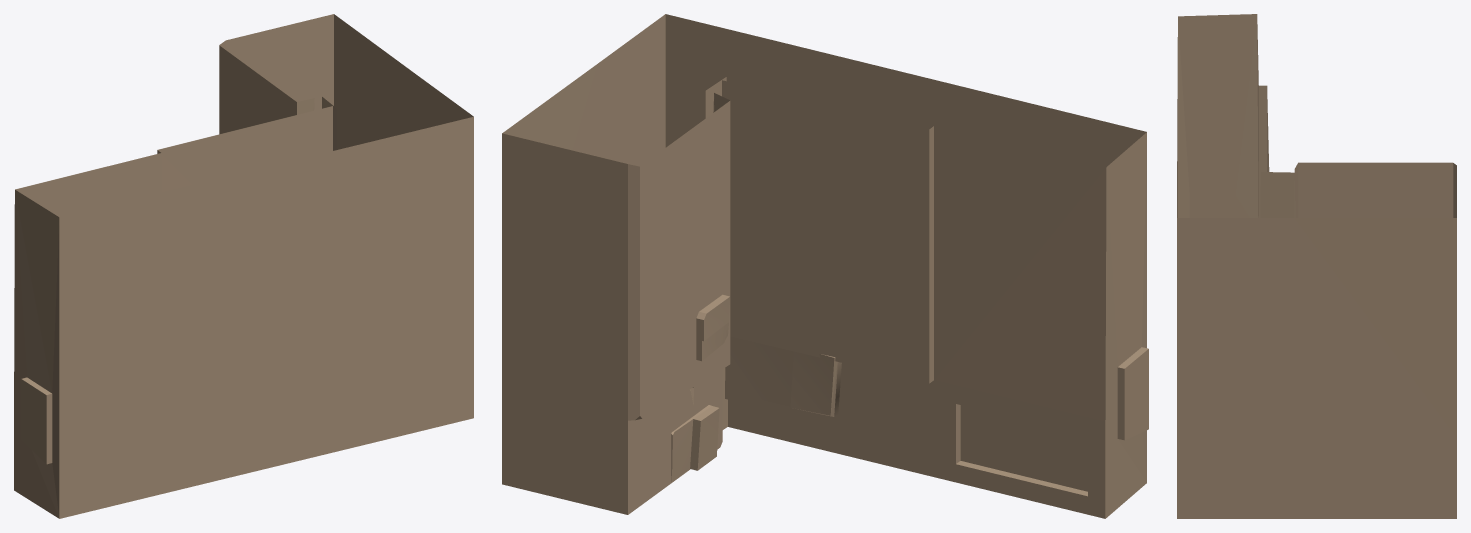
The model's file is 1map wall.FBX.
The picture shows the model from 3 angles, left to right: view 1: azimuth 30°, elevation 25°; view 2: azimuth 150°, elevation 25°; view 3: azimuth 270°, elevation 25°; orthographic projection. The views are drawn at different scales.
Parts seen in each view (by area): view 1: wall; view 2: wall; view 3: wall.
Part boxes in pixels (box(x1,y1,x2,y2)): wall: box(14, 14, 473, 518); wall: box(502, 14, 1148, 518); wall: box(1177, 14, 1456, 518).
Size of the model in its own units: 42.59 by 28.97 by 24.41.
